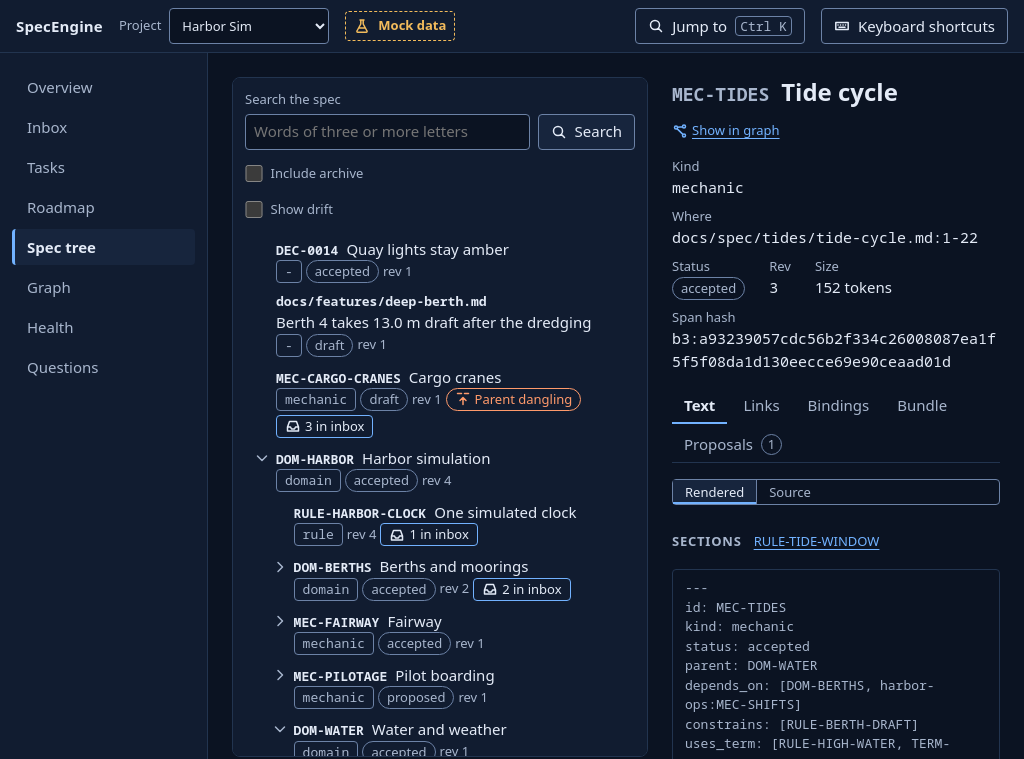
the Spec tree over the mock (AC-05) › focuses the new heading after a followed link, and Back returns
Click the tab "Links".
click(762, 406)  # box [731, 388, 792, 424]
(page scrolled)
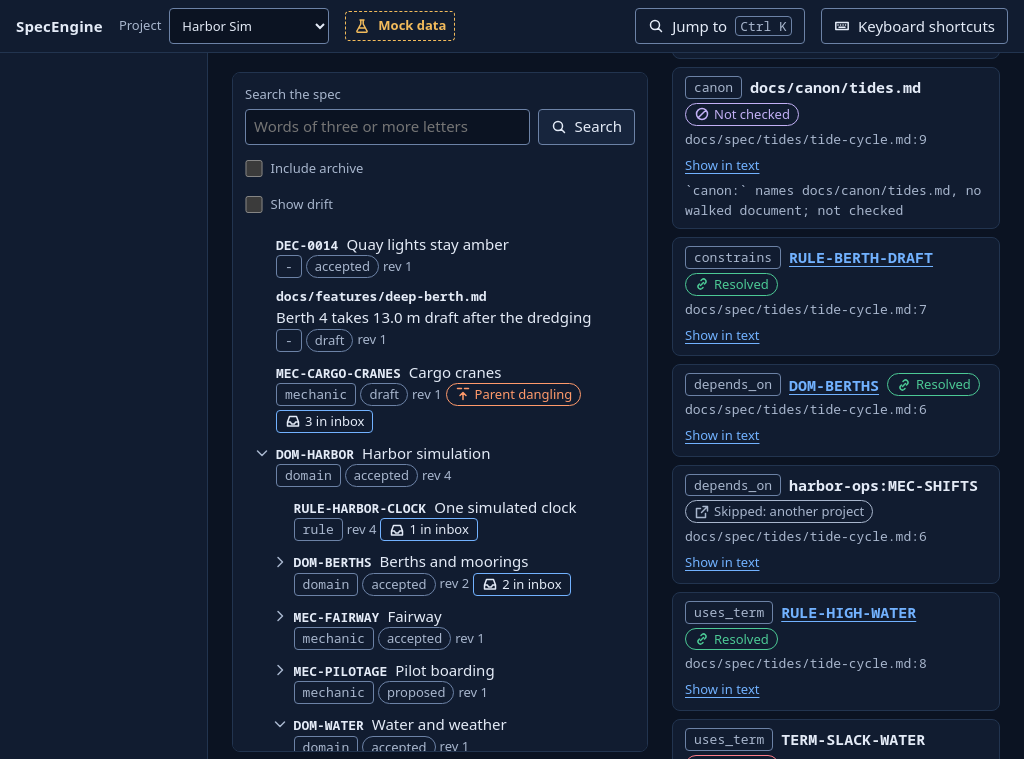
Click the link "DOM-BERTHS".
click(834, 385)  # box [789, 374, 879, 396]
(page scrolled)
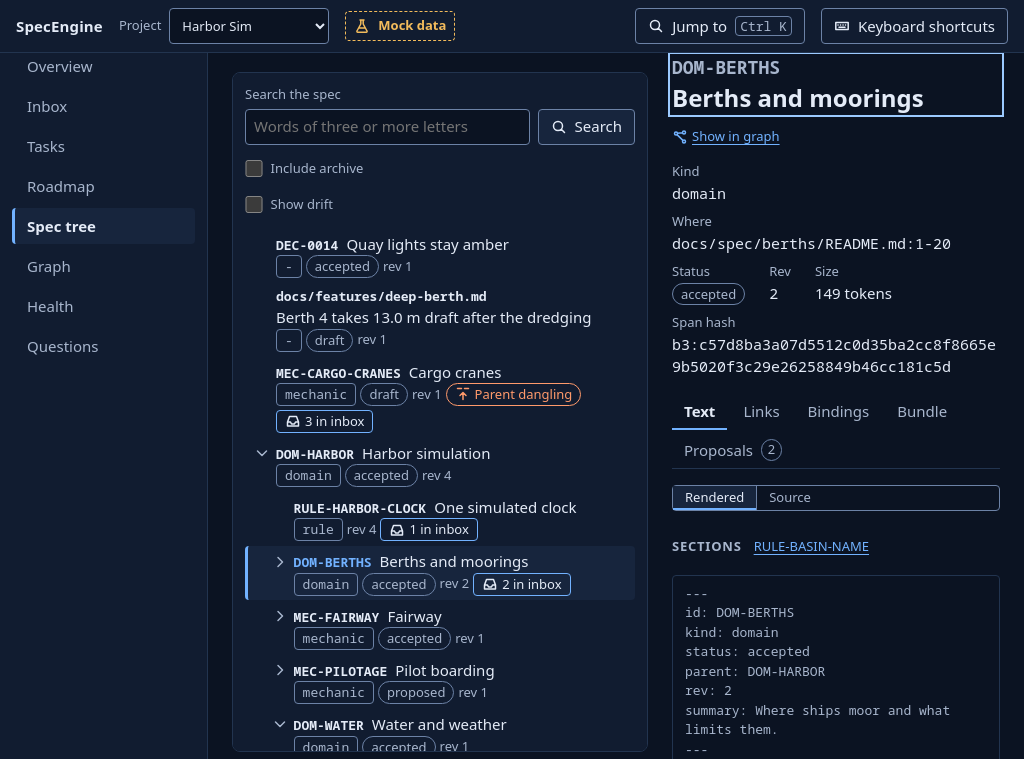
Expected: the heading shows "Berths and moorings", [672, 80, 924, 114]
